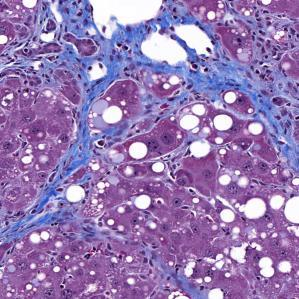fibrosis: (44, 2, 141, 81), (180, 53, 299, 116), (34, 160, 111, 237), (69, 92, 171, 150), (241, 5, 298, 58)
